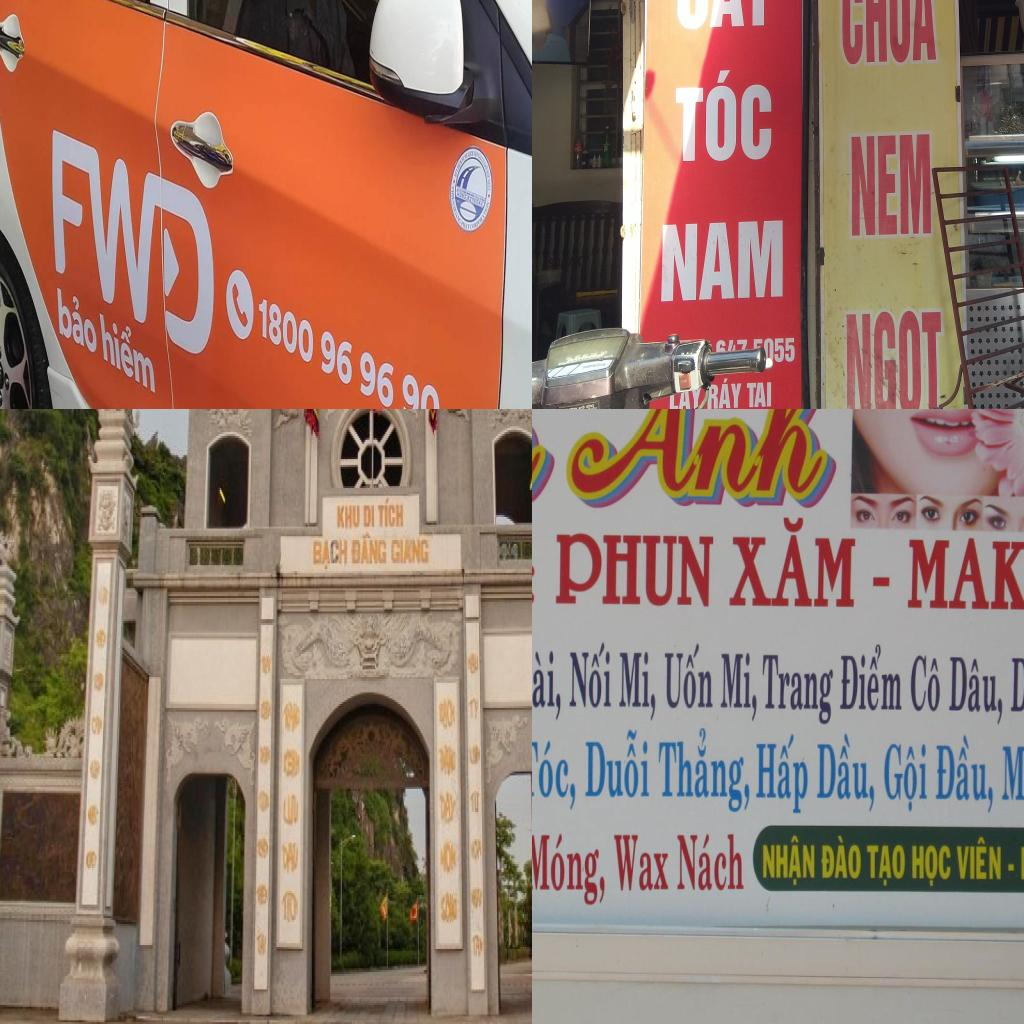text: (50, 124, 220, 370), (556, 409, 843, 507), (255, 287, 447, 409), (554, 531, 716, 610), (728, 516, 859, 610), (659, 219, 785, 304), (841, 308, 944, 409), (673, 68, 774, 164), (847, 131, 935, 240), (906, 538, 1024, 617), (655, 726, 753, 812), (839, 0, 941, 66), (96, 302, 160, 400), (532, 833, 612, 907), (814, 731, 878, 814), (763, 654, 833, 728), (934, 731, 994, 816), (583, 728, 650, 800), (840, 638, 904, 712), (757, 732, 809, 818), (676, 832, 746, 892), (946, 655, 1004, 727), (882, 736, 929, 820), (54, 280, 100, 359), (532, 736, 579, 810), (613, 833, 670, 892), (664, 644, 714, 709), (675, 0, 774, 32), (568, 642, 613, 711), (618, 651, 657, 726), (762, 836, 817, 888), (720, 651, 758, 720), (532, 650, 563, 723), (955, 834, 1002, 882), (820, 834, 864, 879), (910, 843, 952, 889), (910, 654, 942, 712), (866, 842, 906, 887), (1001, 743, 1024, 820), (704, 373, 742, 409), (762, 333, 798, 369), (350, 532, 388, 566), (313, 540, 348, 573), (1009, 655, 1024, 730), (391, 540, 430, 565), (745, 378, 774, 409), (377, 498, 404, 528), (440, 841, 458, 876), (282, 794, 300, 828), (282, 843, 300, 877), (440, 744, 458, 778), (281, 893, 299, 926), (438, 698, 456, 731), (440, 891, 458, 924), (338, 506, 360, 530), (363, 504, 375, 530), (469, 789, 480, 814), (256, 934, 267, 958), (678, 390, 691, 409), (668, 393, 678, 409), (586, 402, 594, 408), (600, 350, 608, 355), (604, 354, 614, 358), (577, 404, 585, 409), (558, 361, 564, 367), (590, 352, 598, 356), (566, 356, 572, 361), (574, 355, 580, 358), (568, 407, 577, 409), (591, 406, 597, 409), (583, 354, 588, 357), (562, 407, 569, 409), (585, 407, 590, 409), (581, 408, 584, 409)
